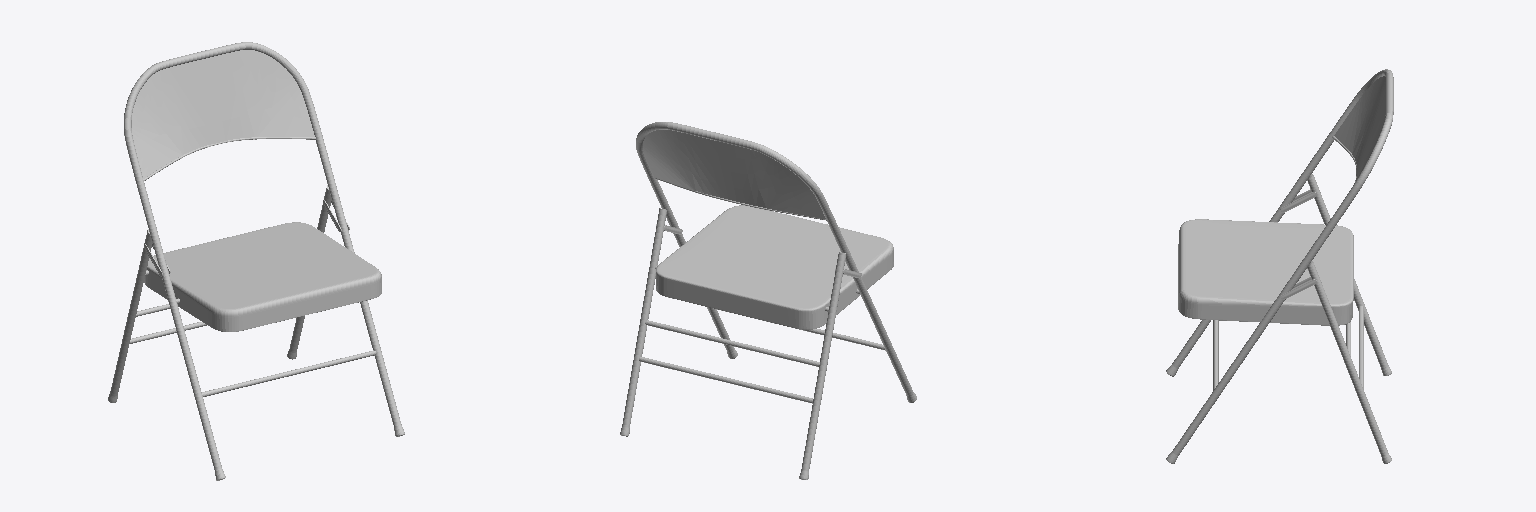
The model's file is 10227_Folding_Chair_metal_v2_Iterations-2.obj.
3 renders of one model, left to right at view 1: azimuth 30°, elevation 25°; view 2: azimuth 150°, elevation 25°; view 3: azimuth 270°, elevation 25°, orthographic.
Parts seen in each view (by area): view 1: 10227_Folding_Chair_metal_v2_Iterations-2; view 2: 10227_Folding_Chair_metal_v2_Iterations-2; view 3: 10227_Folding_Chair_metal_v2_Iterations-2.
Part boxes in pixels (x1,y1,x2,y2): 10227_Folding_Chair_metal_v2_Iterations-2: (108,42,404,480); 10227_Folding_Chair_metal_v2_Iterations-2: (620,122,916,479); 10227_Folding_Chair_metal_v2_Iterations-2: (1166,69,1393,463).
Bounding box in the file's own units: 0.913 × 1.52 × 0.9549.